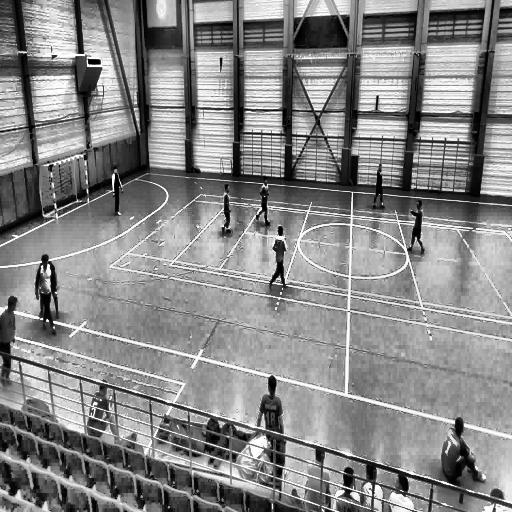player: (256, 373, 285, 460), (35, 254, 58, 330), (0, 296, 17, 387), (269, 226, 288, 290), (406, 199, 424, 255), (255, 176, 270, 225), (111, 166, 123, 216), (371, 166, 384, 208), (222, 183, 232, 234)
